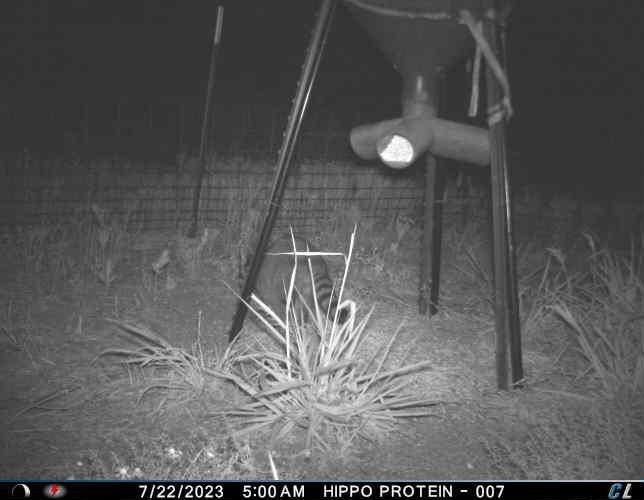Raccoon: (237, 231, 349, 338)
